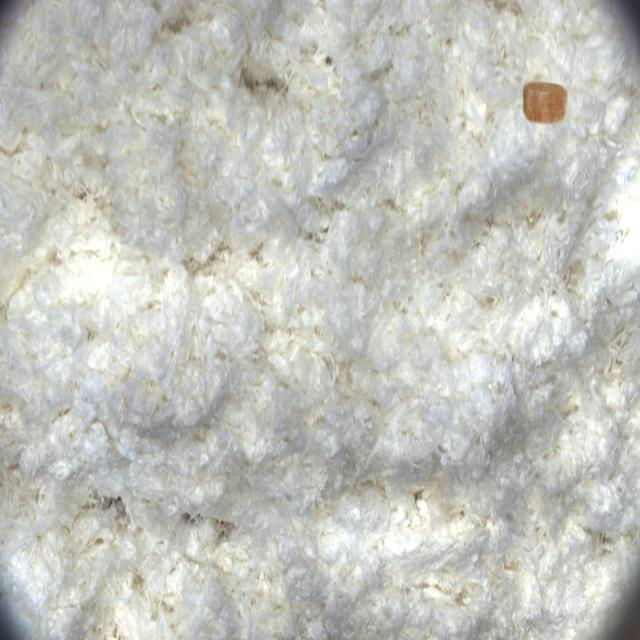dust: (489, 39, 596, 153)
